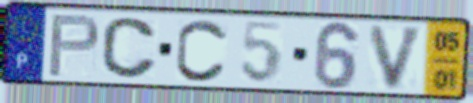5: (239, 18, 285, 86)
6: (311, 19, 361, 92)
C: (99, 15, 160, 81), (173, 16, 231, 84)
P: (45, 13, 103, 79)
V: (366, 23, 429, 92)
